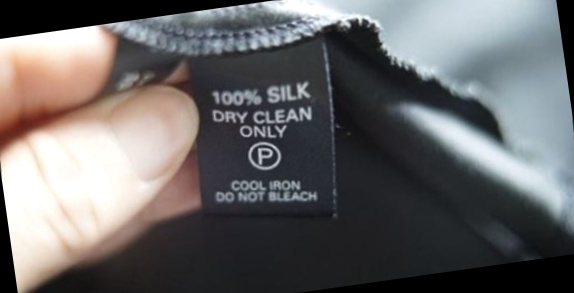dry_clean_any_solvent_except_trichloroethylene: (246, 137, 285, 173)
